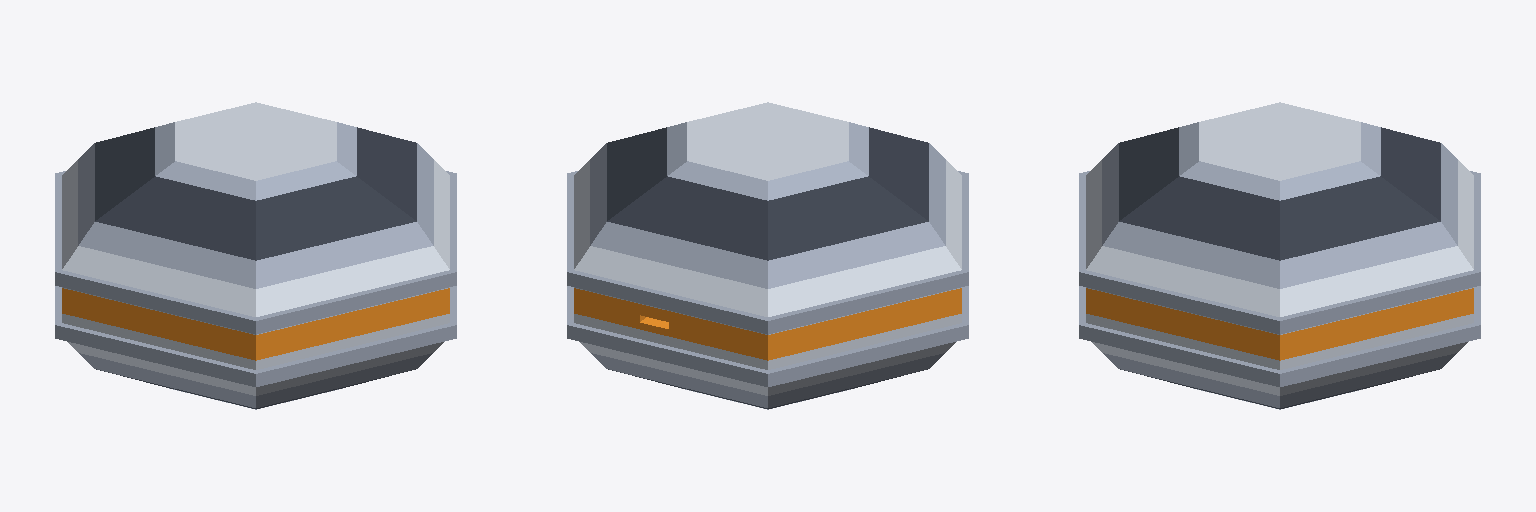
Rendered from station.obj.
The picture shows the model from 3 angles: view 1: azimuth 30°, elevation 25°; view 2: azimuth 150°, elevation 25°; view 3: azimuth 270°, elevation 25°; orthographic projection.
Visible parts, largest first — view 1: hangar_roundA.001; view 2: hangar_roundA.001; view 3: hangar_roundA.001.
Boxes of the visible parts, x1=… form: hangar_roundA.001: x1=55, y1=102, x2=456, y2=409; hangar_roundA.001: x1=567, y1=102, x2=968, y2=409; hangar_roundA.001: x1=1079, y1=102, x2=1480, y2=409.
Size of the model in its own units: 3.12 by 1.69 by 2.7.